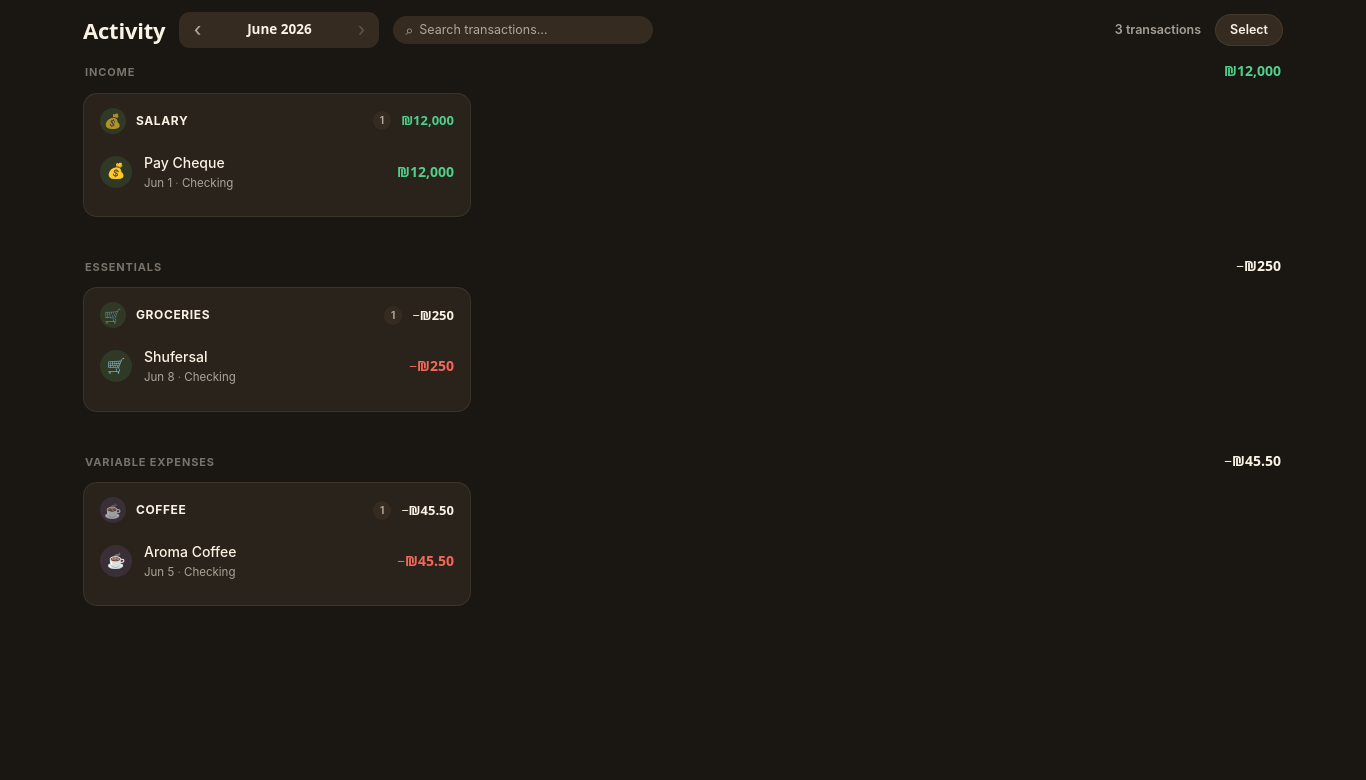
ActivityView — read-only › clicking previous shows last month transactions
Expected: the text "Pay Cheque" is shown, 144,154 -> 225,170
Click the button named "previous month" at (198, 30), box 182,15 -> 212,45
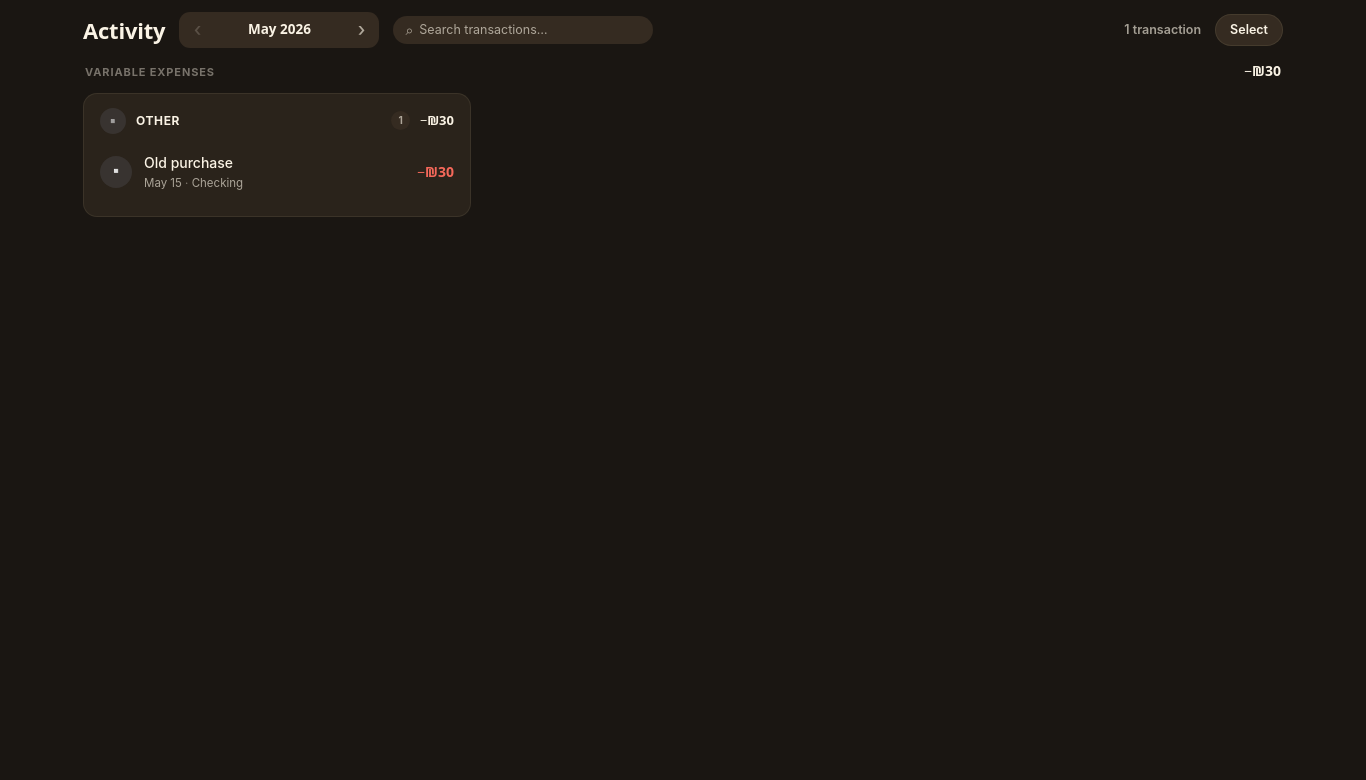
Expected: the text "Old purchase" is shown, 144,154 -> 233,170
Expected: the button "Pay Cheque" is gone
